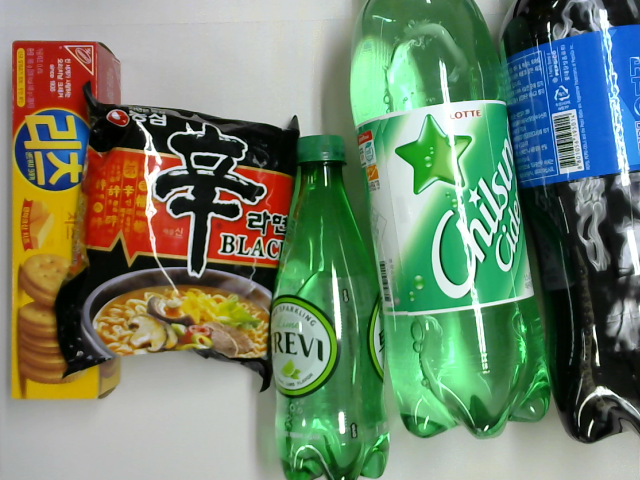Chilseong_Cider_1.5L: (348, 1, 553, 444)
Pepsi_Cola_1.5L: (500, 1, 639, 447)
Ritz_Sand_Cracker: (6, 36, 127, 402)
Sinramen_Black: (61, 78, 305, 399)
Treviraim_500ml: (268, 133, 392, 478)
